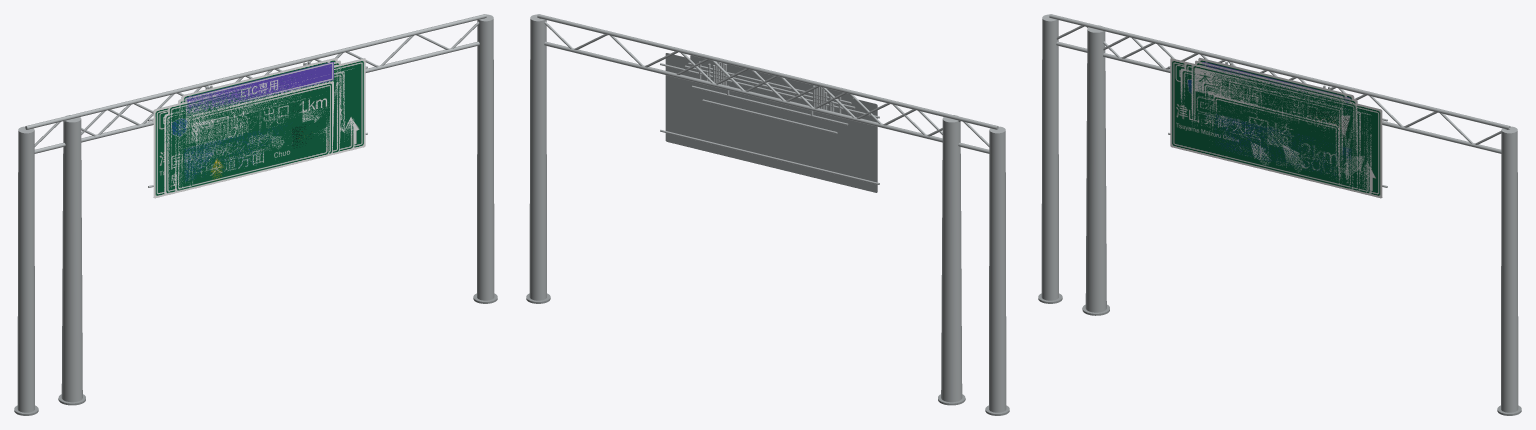
3 views of the same model, side by side, from view 1: azimuth 30°, elevation 25°; view 2: azimuth 150°, elevation 25°; view 3: azimuth 330°, elevation 25° (orthographic).
Parts seen in each view (by area): view 1: opt_support_gantry, opt_board_shutoNew, opt_support_cantilever, opt_board_exit1, opt_board_toll2, opt_board_jct2, opt_board_choice, opt_board_action, opt_board_exitEtc, opt_board_exit500, opt_board_jct, opt_board_branch (+2 smaller); view 2: opt_board_jct2, opt_support_gantry, opt_support_cantilever, opt_board_nagoya, opt_board_exit1, opt_board_branch, opt_board_pa2; view 3: opt_support_gantry, opt_board_jct2, opt_board_hanshin, opt_support_cantilever, opt_board_exit2, opt_board_jct, opt_board_action, opt_board_nagoya, opt_board_pa2, opt_board_toll2, opt_board_exit500, opt_board_choice (+3 smaller).
Boxes of the visible parts, x1,y1,x2,y2 form: opt_support_gantry: (14,14,497,415); opt_board_shutoNew: (189,59,330,188); opt_support_cantilever: (58,59,321,405); opt_board_exit1: (185,81,333,175); opt_board_toll2: (175,63,344,192); opt_board_jct2: (148,58,367,198); opt_board_choice: (178,60,340,190); opt_board_action: (178,65,340,191); opt_board_exitEtc: (186,62,333,115); opt_board_exit500: (164,68,354,195); opt_board_jct: (175,71,344,192); opt_board_branch: (168,62,349,194); opt_board_jct2: (660,53,879,192); opt_support_gantry: (526,14,1009,415); opt_support_cantilever: (676,59,965,405); opt_board_nagoya: (701,59,838,106); opt_board_exit1: (692,83,848,176); opt_board_branch: (674,56,865,181); opt_board_pa2: (688,56,851,108); opt_support_gantry: (1038,14,1521,415); opt_board_jct2: (1168,58,1387,198); opt_board_hanshin: (1210,80,1343,185); opt_support_cantilever: (1082,25,1346,315); opt_board_exit2: (1213,95,1339,186); opt_board_jct: (1191,71,1360,192); opt_board_action: (1198,67,1357,191); opt_board_nagoya: (1210,71,1343,183); opt_board_pa2: (1198,57,1354,190); opt_board_toll2: (1191,63,1360,184); opt_board_exit500: (1180,68,1371,195); opt_board_choice: (1195,60,1357,187).
Size of the model in its own units: 13.6 by 7.7 by 0.68.
Materials: 22 (19 with a texture image).
